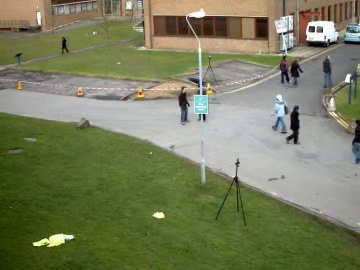person: (177, 86, 193, 126), (177, 84, 192, 125), (178, 85, 193, 125)
